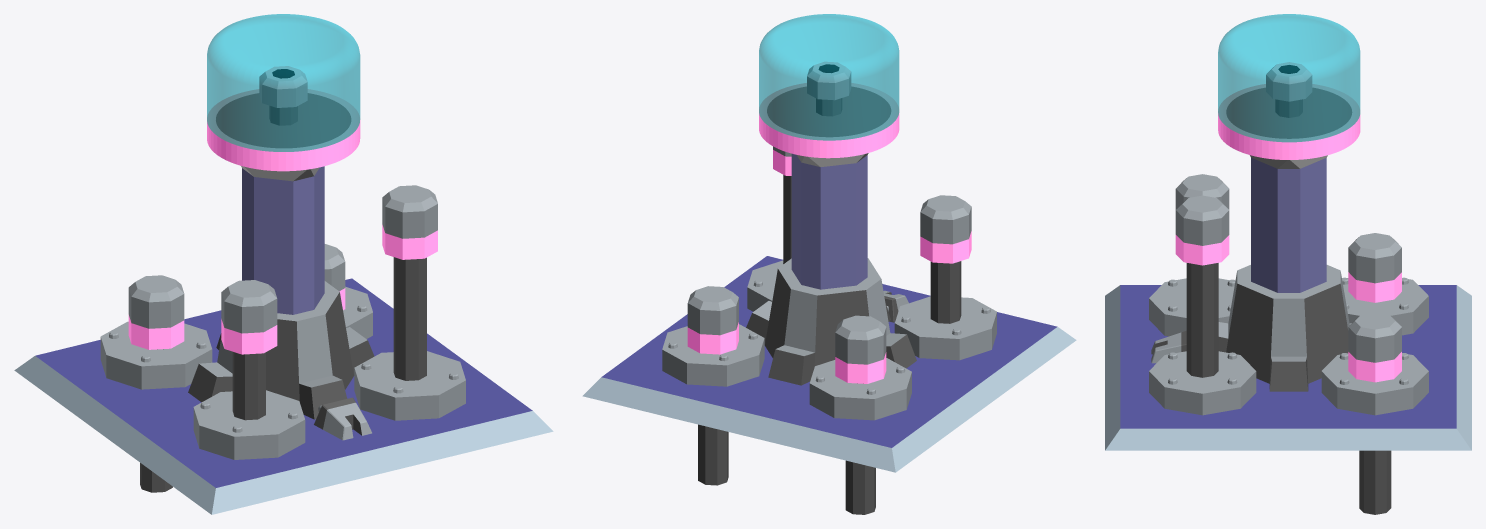
File: 80_Haarvester_ALPHA7.fbx
The picture shows the model from 3 angles, left to right: view 1: azimuth 30°, elevation 25°; view 2: azimuth 150°, elevation 25°; view 3: azimuth 270°, elevation 25°; orthographic projection. The views are drawn at different scales.
Visible parts, largest first — view 1: foundation_harvester7, pCylinder46, harv7, pump2, pump3, pCylinder43, pCylinder42, pCylinder44, pump4, pump5, polySurface48, pCylinder41 (+1 smaller); view 2: foundation_harvester7, harv7, pCylinder46, pump3, pump1, pump4, pCylinder43, pCylinder44, pCylinder41, pump5, pump2, pCylinder42; view 3: foundation_harvester7, harv7, pCylinder46, pump2, pump1, pCylinder42, pCylinder41, pump4, pCylinder43, pCylinder44, pump5, pump3 (+1 smaller).
Part boxes in pixels (bbox=[...]): foundation_harvester7: bbox=[14, 278, 553, 514]; pCylinder46: bbox=[207, 14, 360, 171]; harv7: bbox=[188, 166, 374, 419]; pump2: bbox=[382, 185, 437, 380]; pump3: bbox=[221, 280, 277, 420]; pCylinder43: bbox=[193, 390, 305, 459]; pCylinder42: bbox=[354, 351, 465, 420]; pCylinder44: bbox=[100, 321, 212, 389]; pump4: bbox=[128, 275, 184, 492]; pump5: bbox=[259, 66, 307, 125]; polySurface48: bbox=[314, 397, 371, 440]; pCylinder41: bbox=[343, 286, 372, 338]; foundation_harvester7: bbox=[582, 256, 1076, 472]; harv7: bbox=[746, 153, 916, 385]; pCylinder46: bbox=[759, 14, 899, 158]; pump3: bbox=[920, 195, 971, 323]; pump1: bbox=[687, 286, 738, 485]; pump4: bbox=[835, 315, 886, 514]; pCylinder43: bbox=[894, 296, 996, 360]; pCylinder44: bbox=[809, 358, 911, 420]; pCylinder41: bbox=[662, 324, 764, 386]; pump5: bbox=[807, 61, 851, 116]; pump2: bbox=[773, 146, 791, 263]; pCylinder42: bbox=[747, 260, 783, 311]; foundation_harvester7: bbox=[1105, 285, 1471, 450]; harv7: bbox=[1218, 155, 1351, 391]; pCylinder46: bbox=[1218, 14, 1360, 159]; pump2: bbox=[1175, 195, 1229, 377]; pump1: bbox=[1348, 312, 1401, 514]; pCylinder42: bbox=[1149, 351, 1256, 415]; pCylinder41: bbox=[1321, 353, 1428, 415]; pump4: bbox=[1348, 233, 1401, 302]; pCylinder43: bbox=[1149, 278, 1234, 336]; pCylinder44: bbox=[1343, 278, 1428, 335]; pump5: bbox=[1266, 62, 1312, 117]; pump3: bbox=[1175, 174, 1229, 209].
Bounding box in the file's own units: 2 × 2.61 × 2.
